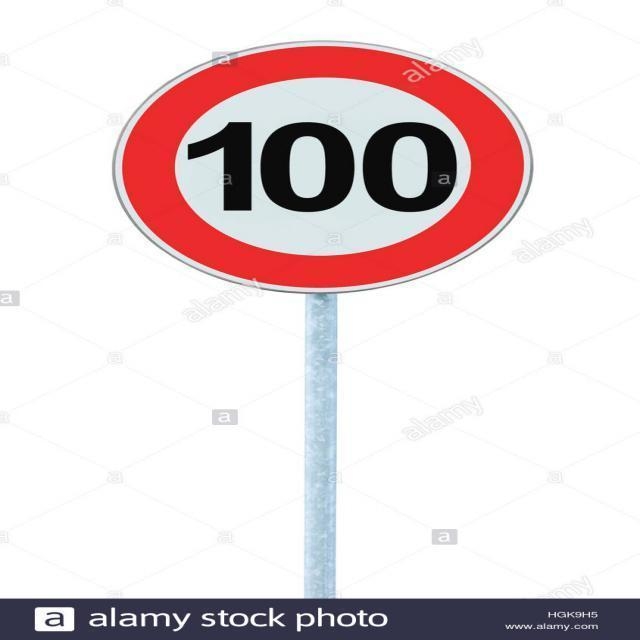speed limit 100: (108, 39, 533, 294)
